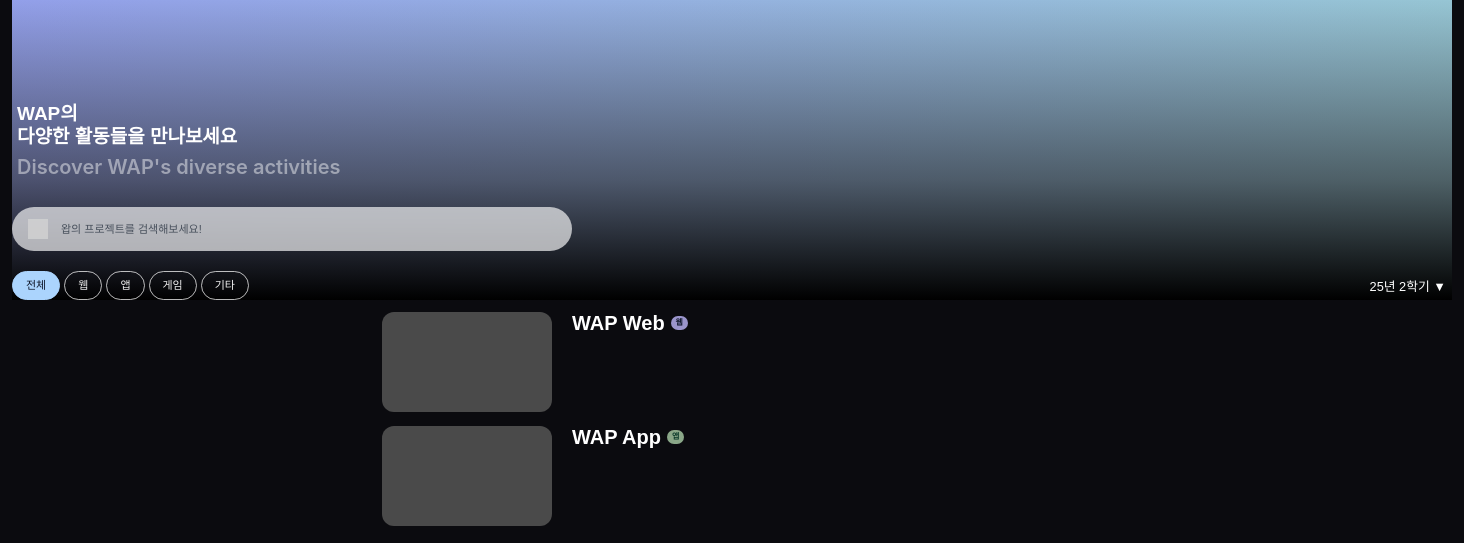
Test: 검색어의 앞뒤 공백과 대소문자를 무시하고 유형 필터를 함께 적용한다
Expected: the heading "WAP Web" is shown, [572,312,665,334]
In the field named "project title search": (308, 229) [59,207,557,251], type "  wAp  "
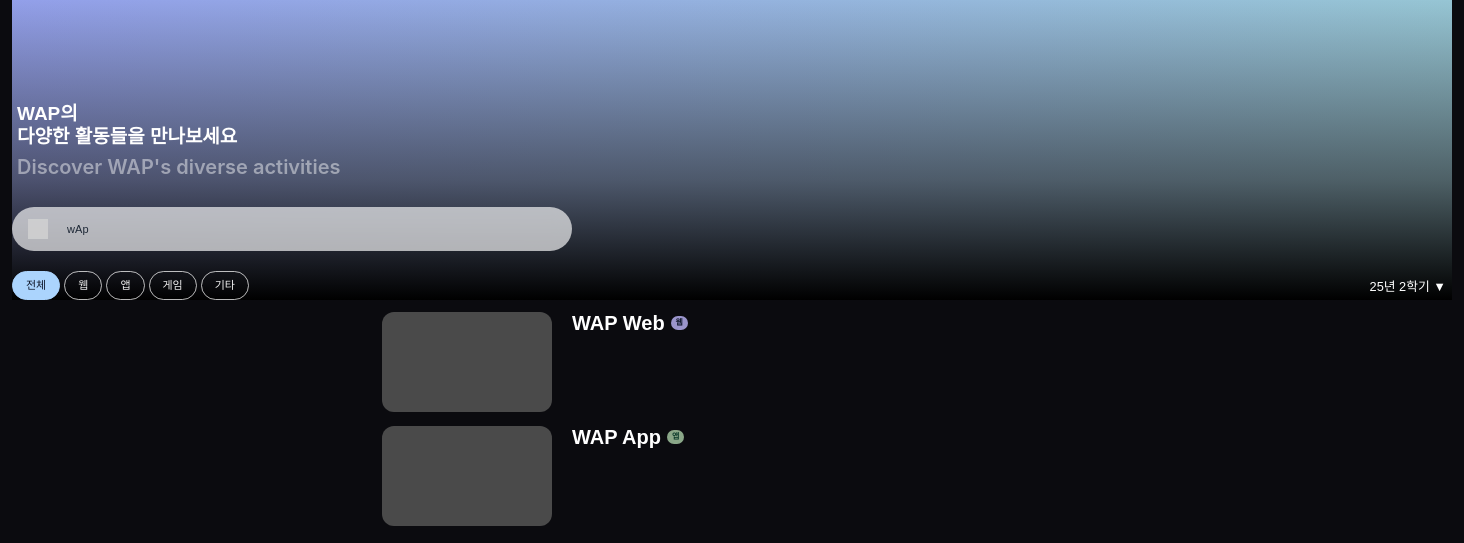
Expected: the heading "WAP Web" is shown, [572,312,665,334]
Expected: the heading "WAP App" is shown, [572,426,661,448]
Click the tab "앱": (125, 286) [106,271,144,300]
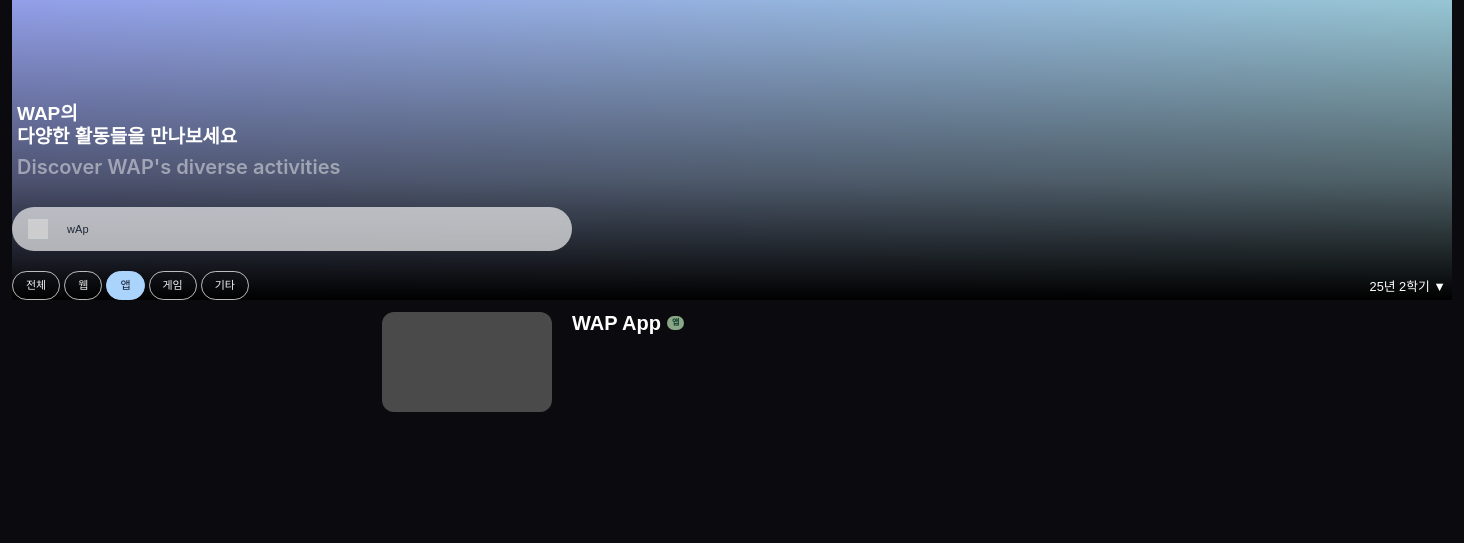
Expected: the heading "WAP App" is shown, [572,312,661,334]
Now the link "WAP Web" is gone
